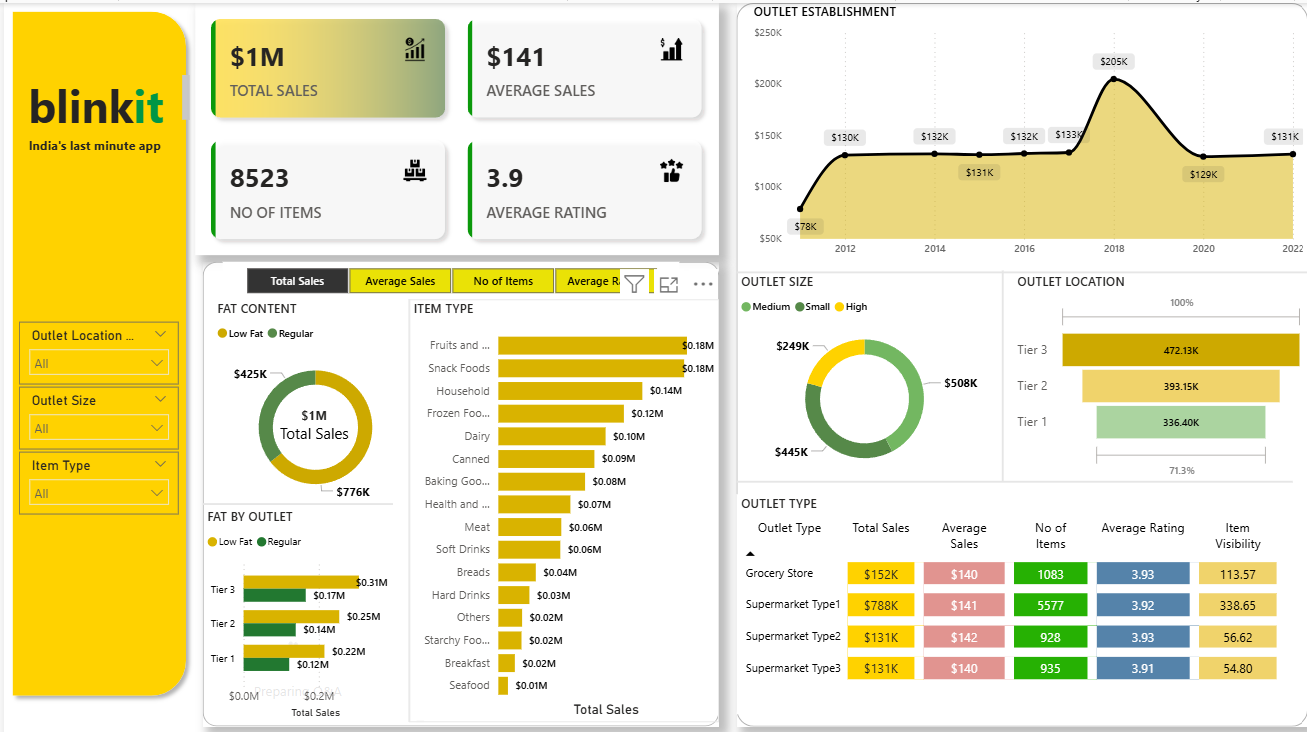

The page's visual inventory and layout, read from the dashboard file:
{"tool":"powerbi","page":{"name":"Page 1","canvas":[1400,800],"ordinal":0},"visuals":[{"type":"shape","box":[0,0,204.1,751.9],"z":0},{"type":"textbox","box":[21.2,72.5,182.5,65],"z":1000},{"type":"textbox","box":[252.5,763.8,203.8,12.5],"z":2000},{"type":"textbox","box":[505,536.2,203.8,240],"z":3000},{"type":"textbox","box":[21.2,137.5,160,33.8],"z":4000},{"type":"cardVisual","fields":{"Data":["BlinkIT Grocery Data.Total Sales","BlinkIT Grocery Data.Average Sales","BlinkIT Grocery Data.No of Items","BlinkIT Grocery Data.Average Rating"]},"box":[205.6,0,561.3,270.2],"z":5000},{"type":"qnaVisual","box":[213.8,650,203.8,150],"z":6000},{"type":"shape","box":[213.1,277.7,553.8,498.3],"z":7000},{"type":"donutChart","title":"FAT CONTENT","fields":{"Y":["BlinkIT Grocery Data.Total Sales"],"Category":["BlinkIT Grocery Data.Item Fat Content"]},"box":[223.6,318.2,220.6,229.6],"z":8000},{"type":"slicer","fields":{"Values":["Metrics.Metrics"]},"box":[234.1,277.7,489.3,40.5],"z":9000},{"type":"cardVisual","fields":{"Data":["BlinkIT Grocery Data.Total Sales"]},"box":[270.8,411.5,124.7,80.4],"z":10000},{"type":"clusteredBarChart","title":"FAT BY OUTLET","fields":{"Y":["BlinkIT Grocery Data.Total Sales"],"Series":["BlinkIT Grocery Data.Item Fat Content"],"Category":["BlinkIT Grocery Data.Outlet Location Type"]},"box":[213.1,541.8,220.6,229.6],"z":11000},{"type":"shape","box":[213.1,526.8,204.1,21],"z":12000},{"type":"shape","box":[424.7,318.2,19.5,453.3],"z":13000},{"type":"shape","box":[785.5,0,613.9,776.1],"z":14000},{"type":"clusteredBarChart","title":"ITEM TYPE","fields":{"Y":["BlinkIT Grocery Data.Total Sales"],"Category":["BlinkIT Grocery Data.Item Type"]},"box":[434.3,317.7,332.4,453.1],"z":15000},{"type":"lineChart","title":"OUTLET ESTABLISHMENT","fields":{"Y":["BlinkIT Grocery Data.Total Sales"],"Category":["BlinkIT Grocery Data.Outlet Establishment Year"]},"box":[798.9,0,600.5,280.2],"z":16000},{"type":"shape","box":[785.5,280.2,613.9,17.4],"z":17000},{"type":"donutChart","title":"OUTLET SIZE","fields":{"Y":["BlinkIT Grocery Data.Total Sales"],"Category":["BlinkIT Grocery Data.Outlet Size"]},"box":[785.5,289.5,275,225],"z":18000},{"type":"shape","box":[1060.3,286.9,21.4,226.5],"z":19000},{"type":"funnel","title":"OUTLET LOCATION","fields":{"Y":["Sum(BlinkIT Grocery Data.Sales)"],"Category":["BlinkIT Grocery Data.Outlet Location Type"]},"box":[1081.8,289.5,317.7,225.2],"z":20000},{"type":"shape","box":[785.5,500,596.5,26.8],"z":21000},{"type":"pivotTable","title":"OUTLET TYPE","fields":{"Rows":["BlinkIT Grocery Data.Outlet Type"],"Values":["BlinkIT Grocery Data.Total Sales","BlinkIT Grocery Data.Average Sales","BlinkIT Grocery Data.No of Items","BlinkIT Grocery Data.Average Rating","Sum(BlinkIT Grocery Data.Item Visibility)"]},"box":[785.5,526.8,600.5,235.9],"z":22000},{"type":"slicer","fields":{"Values":["BlinkIT Grocery Data.Outlet Location Type"]},"box":[16.1,341.8,171.6,67],"z":23000},{"type":"slicer","fields":{"Values":["BlinkIT Grocery Data.Outlet Size"]},"box":[16.1,411.5,171.6,67],"z":24000},{"type":"slicer","fields":{"Values":["BlinkIT Grocery Data.Item Type"]},"box":[16.1,481.2,171.6,67],"z":25000}]}

Visuals, with their boxes in screenshot pixels (x1, y1, x2, y2), scaled from the page's 1400x800 canvas onto the 1307x732 screenshot:
shape: bbox=[0, 0, 191, 688]
textbox: bbox=[20, 66, 190, 126]
textbox: bbox=[236, 699, 426, 710]
textbox: bbox=[471, 491, 662, 710]
textbox: bbox=[20, 126, 169, 157]
cardVisual - BlinkIT Grocery Data.Total Sales x BlinkIT Grocery Data.Average Sales: bbox=[192, 0, 716, 247]
qnaVisual: bbox=[200, 595, 390, 731]
shape: bbox=[199, 254, 716, 710]
"FAT CONTENT" donutChart: bbox=[209, 291, 415, 501]
slicer - Metrics.Metrics: bbox=[219, 254, 675, 291]
cardVisual - BlinkIT Grocery Data.Total Sales: bbox=[253, 377, 369, 450]
"FAT BY OUTLET" clusteredBarChart: bbox=[199, 496, 405, 706]
shape: bbox=[199, 482, 389, 501]
shape: bbox=[396, 291, 415, 706]
shape: bbox=[733, 0, 1306, 710]
"ITEM TYPE" clusteredBarChart: bbox=[405, 291, 716, 705]
"OUTLET ESTABLISHMENT" lineChart: bbox=[746, 0, 1306, 256]
shape: bbox=[733, 256, 1306, 272]
"OUTLET SIZE" donutChart: bbox=[733, 265, 990, 471]
shape: bbox=[990, 263, 1010, 470]
"OUTLET LOCATION" funnel: bbox=[1010, 265, 1306, 471]
shape: bbox=[733, 458, 1290, 482]
"OUTLET TYPE" pivotTable: bbox=[733, 482, 1294, 698]
slicer - BlinkIT Grocery Data.Outlet Location Type: bbox=[15, 313, 175, 374]
slicer - BlinkIT Grocery Data.Outlet Size: bbox=[15, 377, 175, 438]
slicer - BlinkIT Grocery Data.Item Type: bbox=[15, 440, 175, 502]
